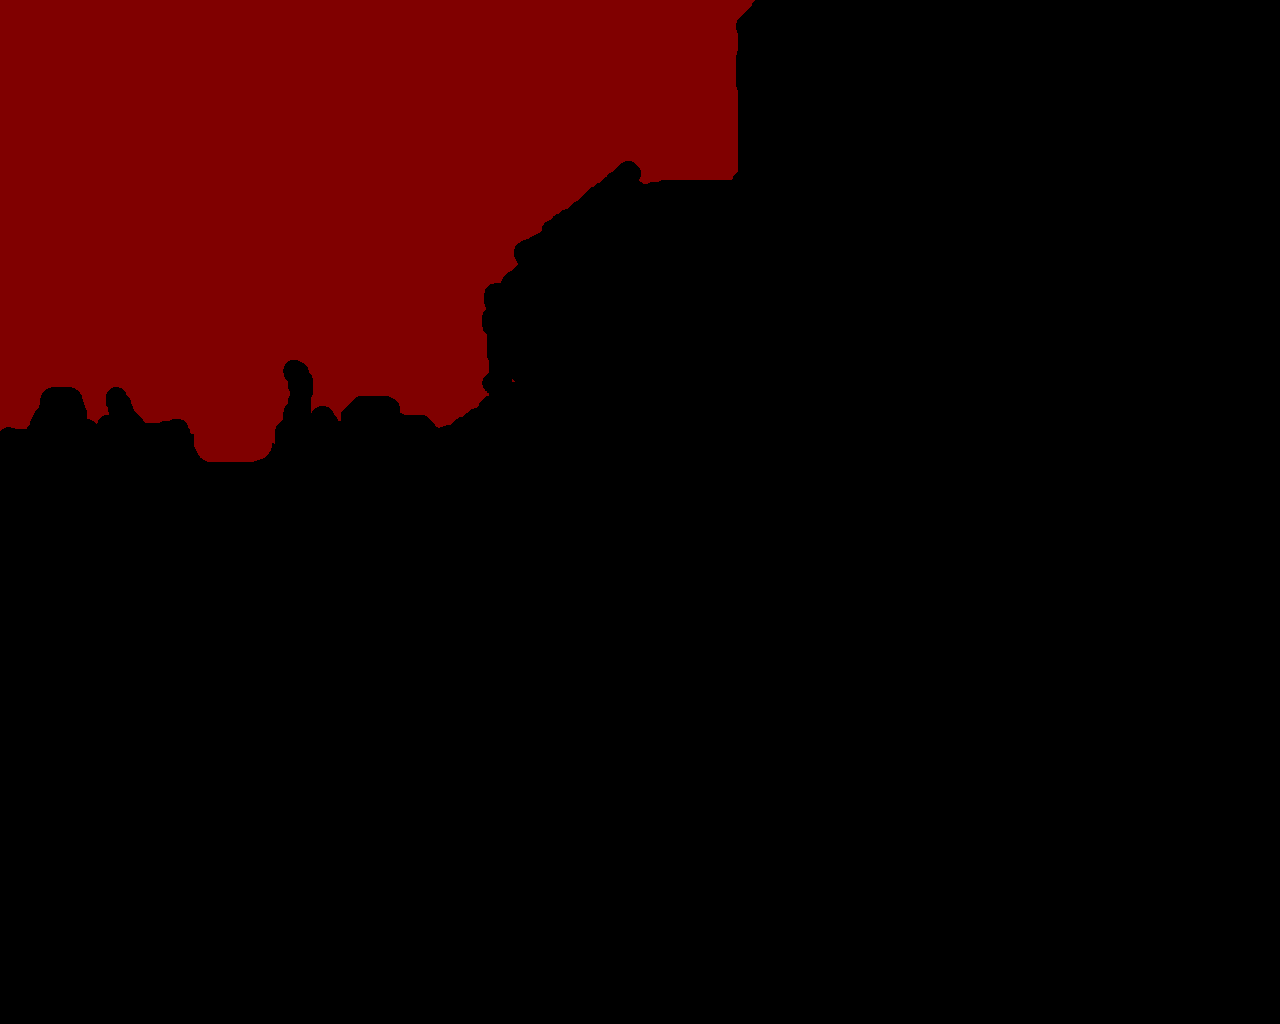Sky: (1, 1, 754, 462)
